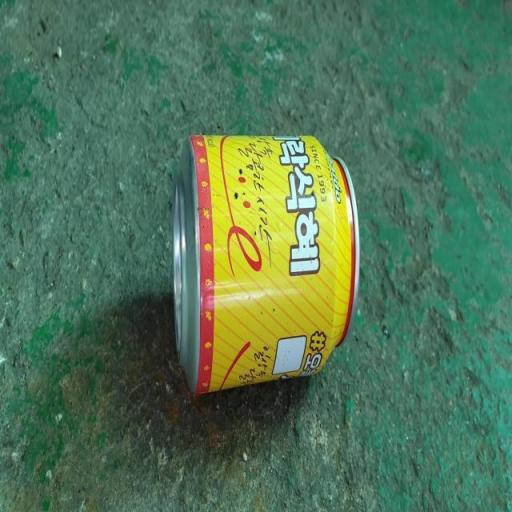metal: (139, 78, 380, 444)
